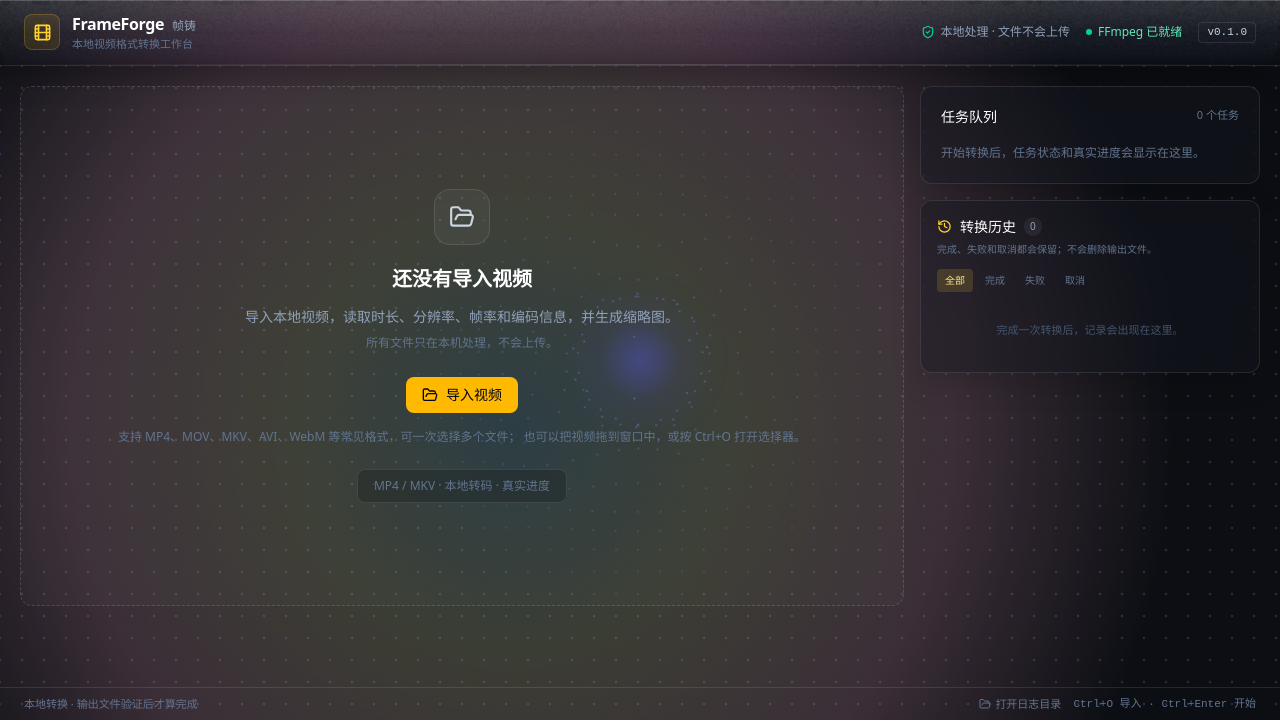
阶段 4 / 体验 UI › 转换进行中时禁用从工作区移除
This screenshot has width=1280, height=720.
Expected: the text "FFmpeg 已就绪" is shown, [1086,24,1182,40]
Click the button "导入视频" at (462, 394), box [406,376,518,412]
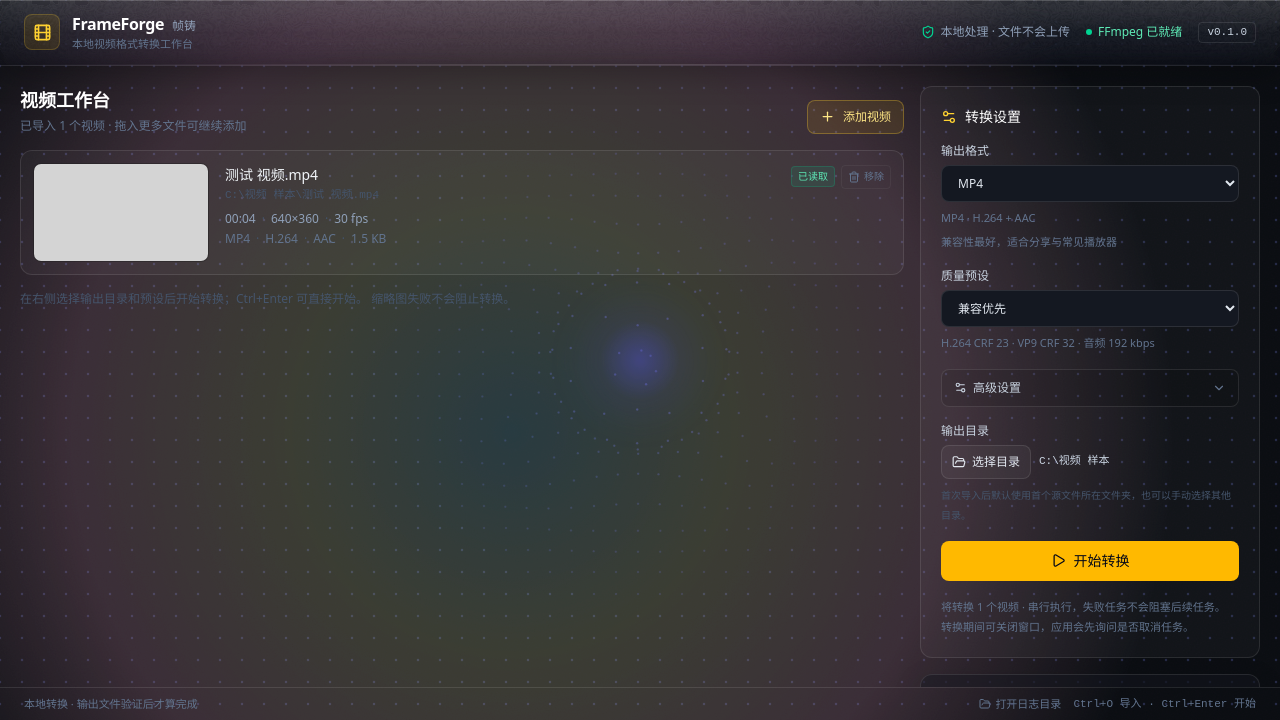
Expected: the heading "测试 视频.mp4" is shown, [225,164,318,184]
Click the button "开始转换" at (1090, 560), box [941,540,1239,580]
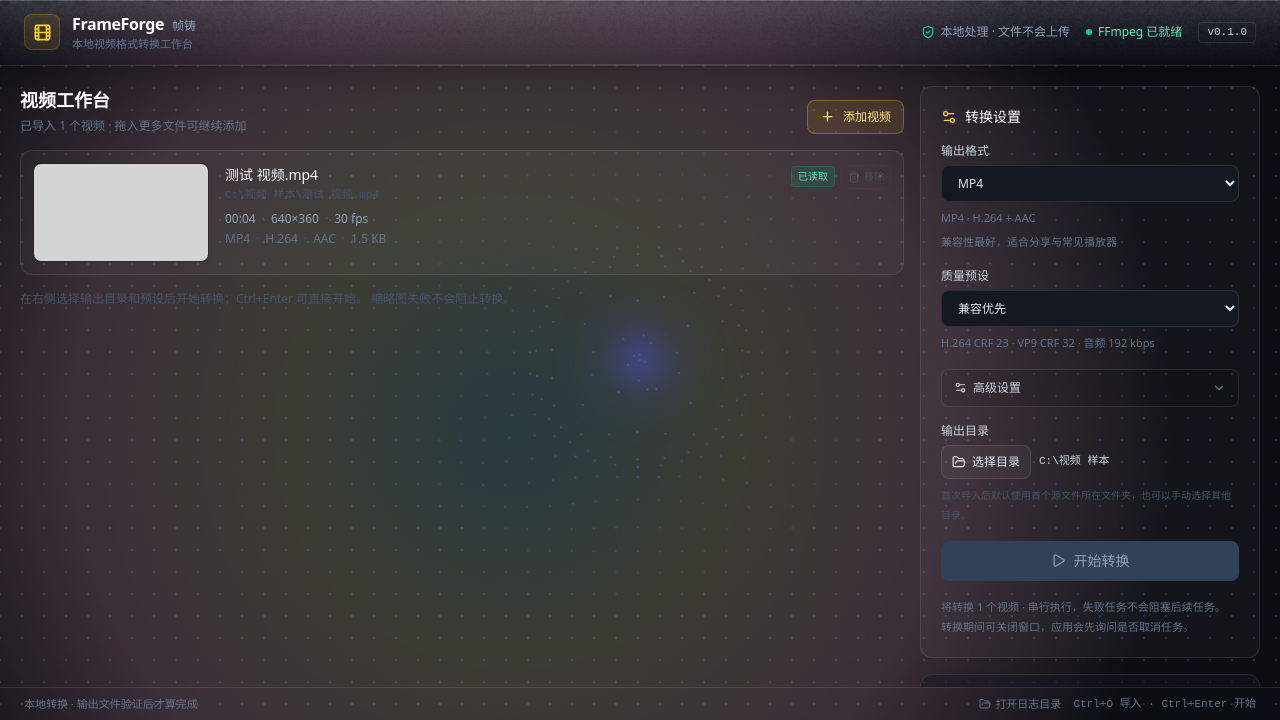
Expected: the button with aria-label "从工作区移除 测试 视频.mp4" is disabled, [841,164,891,188]
